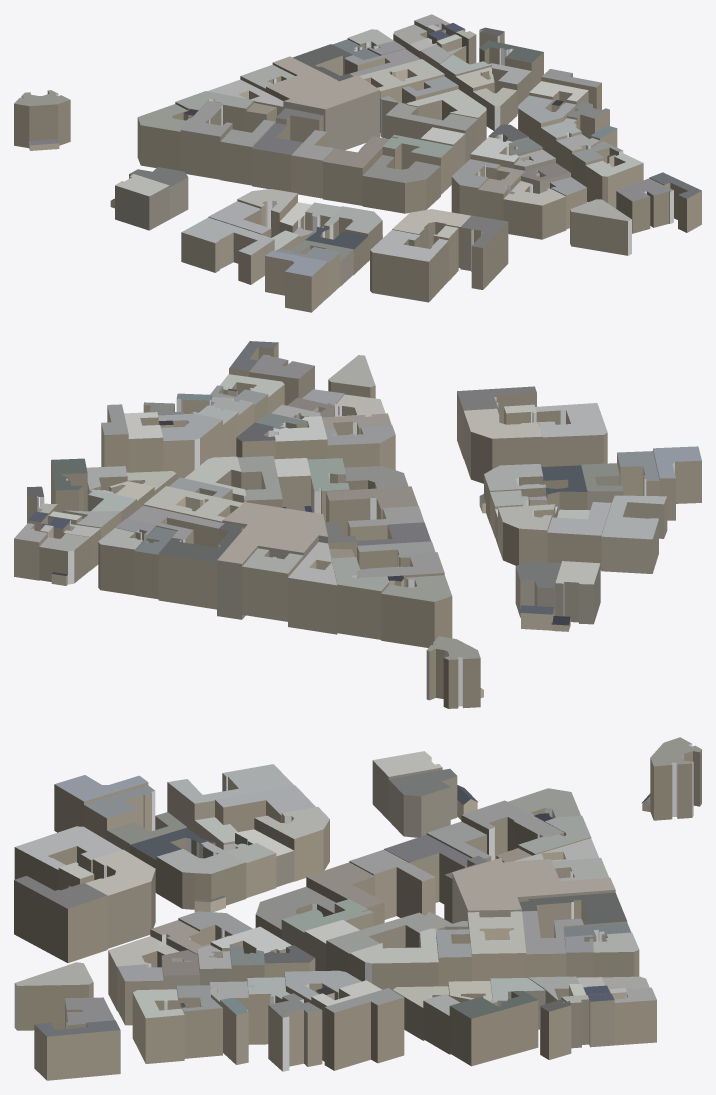
3 renders of one model, top to bottom at view 1: azimuth 30°, elevation 25°; view 2: azimuth 150°, elevation 25°; view 3: azimuth 270°, elevation 25°, orthographic. The views are drawn at different scales.
Parts seen in each view (by area): view 1: tuile; view 2: tuile; view 3: tuile.
Boxes of the visible parts, <box> form: tuile: <box>14,14,701,312</box>; tuile: <box>14,341,701,708</box>; tuile: <box>14,737,701,1080</box>.
Size of the model in its own units: 271 by 33.76 by 276.
